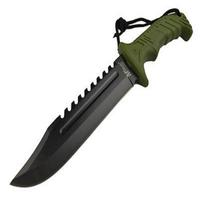knife: (9, 10, 195, 192)
